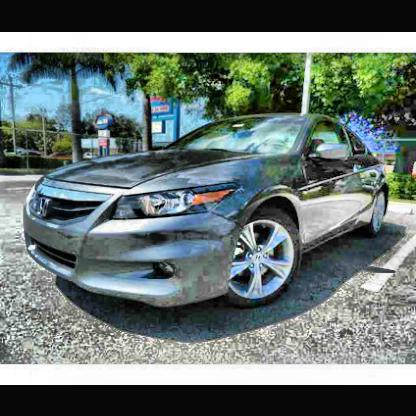Honda Accord Coupe 2012: (27, 114, 394, 310)
